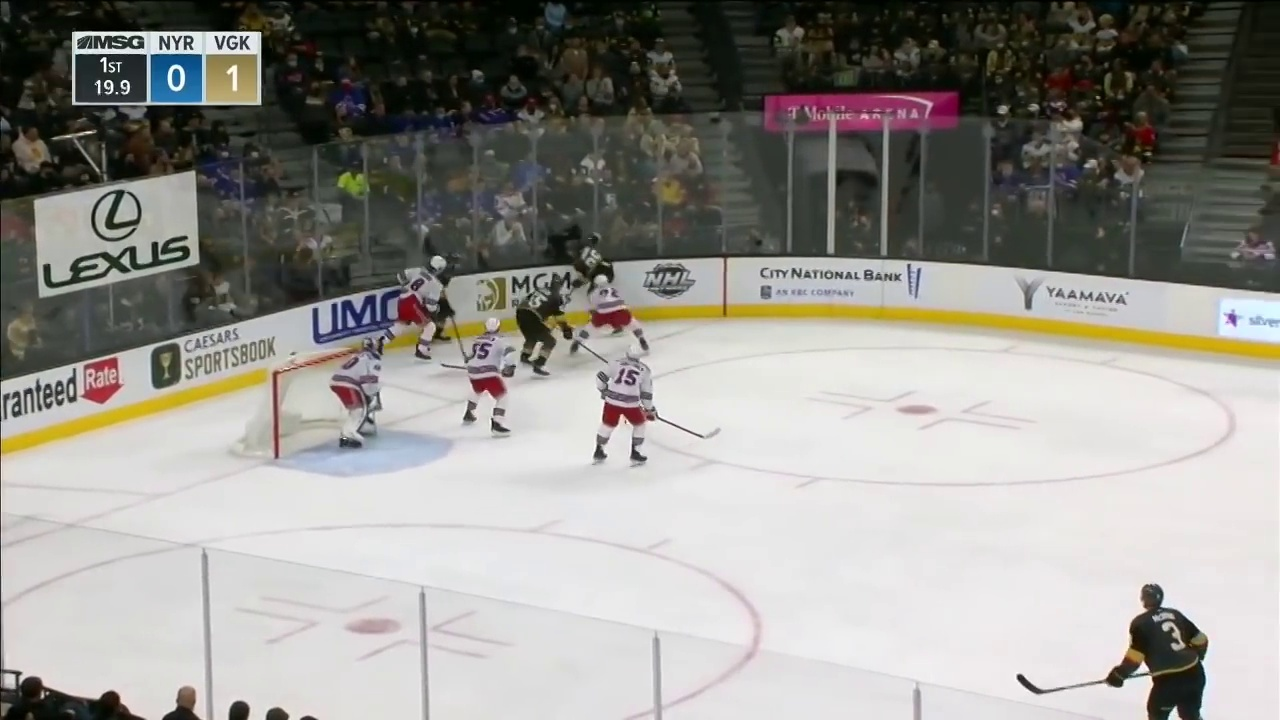goalie: (329, 336, 383, 449)
hockeyplayer: (1105, 584, 1209, 720), (592, 343, 658, 467), (375, 255, 447, 363), (462, 318, 516, 438), (570, 274, 649, 354), (565, 232, 623, 336), (516, 277, 573, 379)
